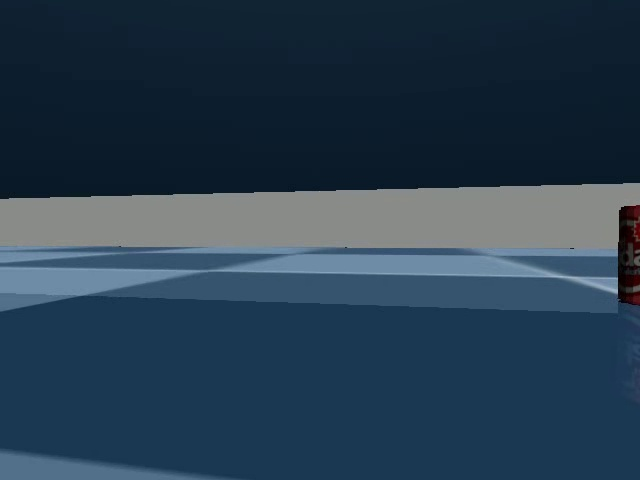can: (611, 198, 640, 318)
